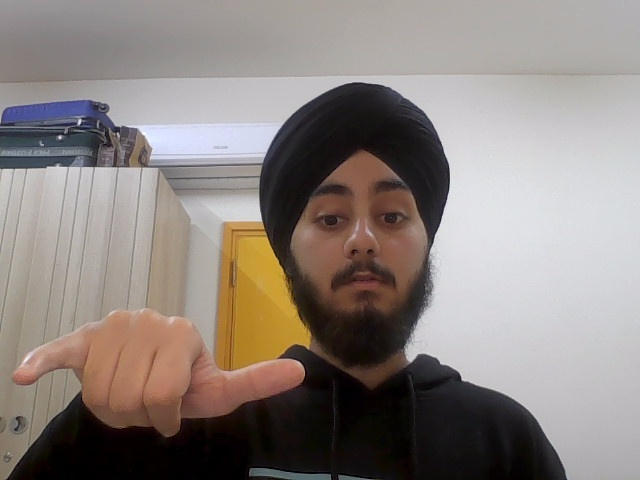Same: (11, 302, 309, 439)
